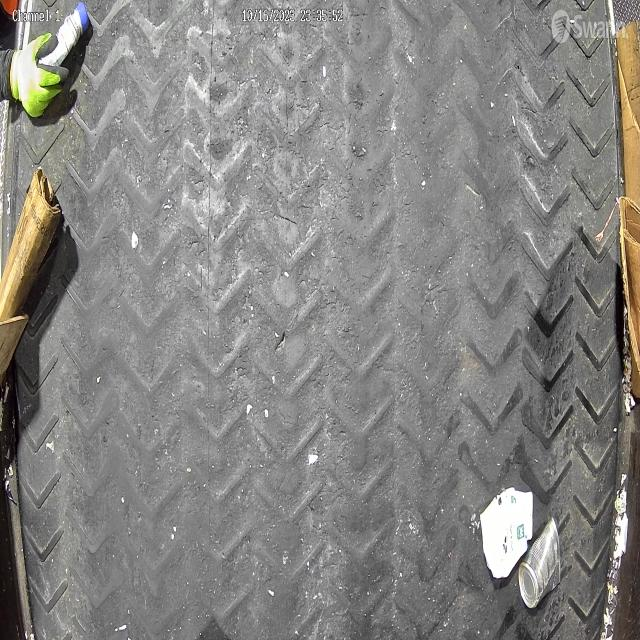can: (518, 516, 562, 610)
